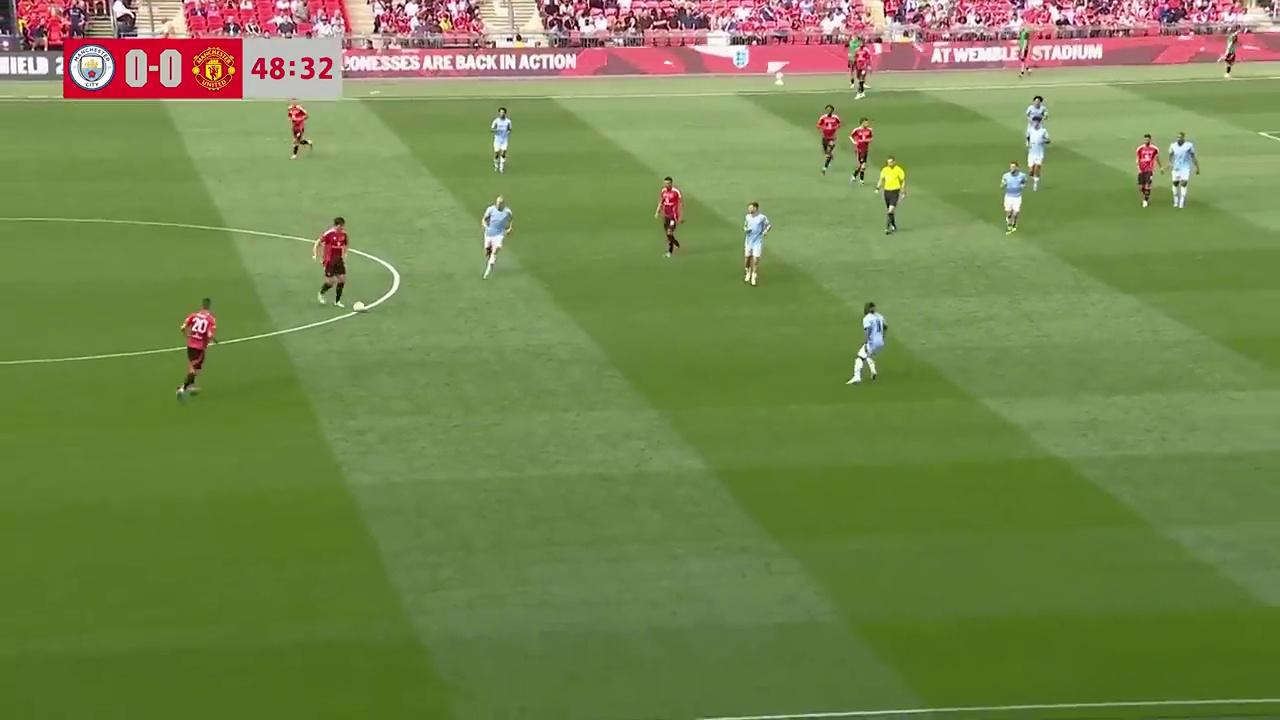ball: (352, 299, 365, 314)
player: (176, 298, 216, 400), (844, 301, 887, 384), (312, 216, 349, 305), (480, 195, 513, 277), (1168, 131, 1198, 209), (654, 176, 683, 256), (743, 200, 769, 285), (1025, 104, 1049, 191), (1134, 133, 1161, 208), (1000, 161, 1025, 234), (816, 104, 841, 173), (1024, 94, 1050, 159), (849, 117, 874, 183), (287, 98, 312, 159), (490, 106, 512, 173), (849, 54, 870, 97)
referee: (875, 155, 906, 234)
